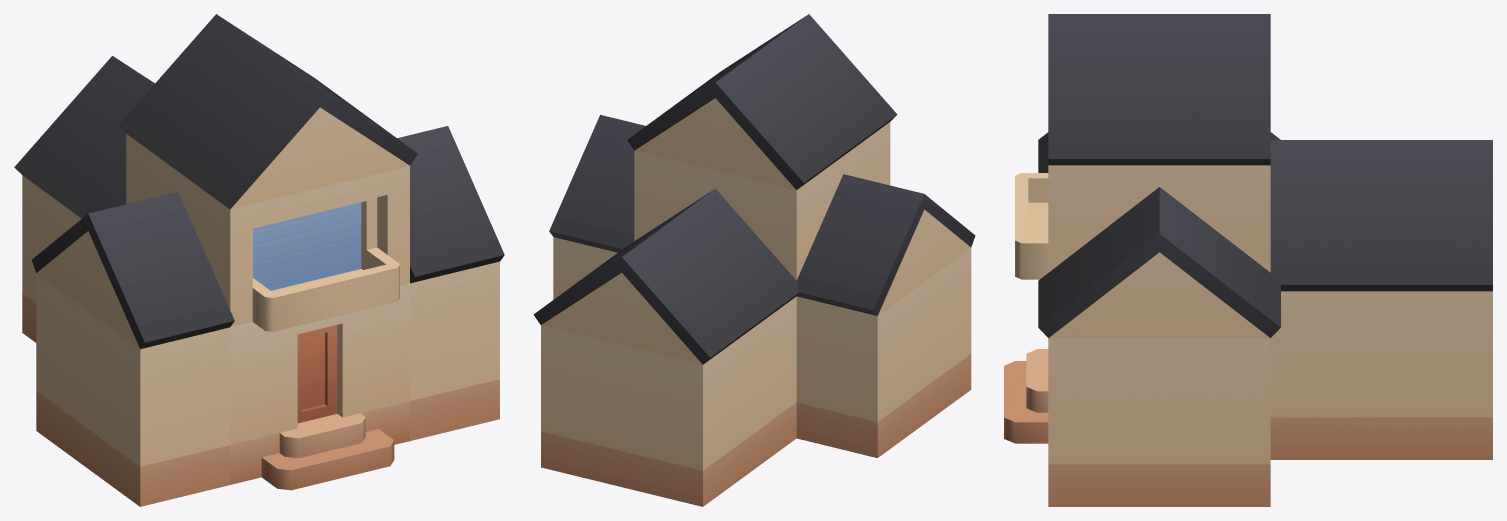
The model's file is townhouse_c.glb.
3 views of the same model, side by side, from view 1: azimuth 30°, elevation 25°; view 2: azimuth 150°, elevation 25°; view 3: azimuth 270°, elevation 25° (orthographic). The views are drawn at different scales.
Visible parts, largest first — view 1: building-sample-house-c; view 2: building-sample-house-c; view 3: building-sample-house-c.
Part boxes in pixels (x1=…): building-sample-house-c: x1=14, y1=14, x2=504, y2=506; building-sample-house-c: x1=533, y1=14, x2=975, y2=506; building-sample-house-c: x1=1004, y1=14, x2=1492, y2=506.
Bounding box in the file's own units: 8 × 7.93 × 8.8.
Materials: 1 (1 with a texture image).
